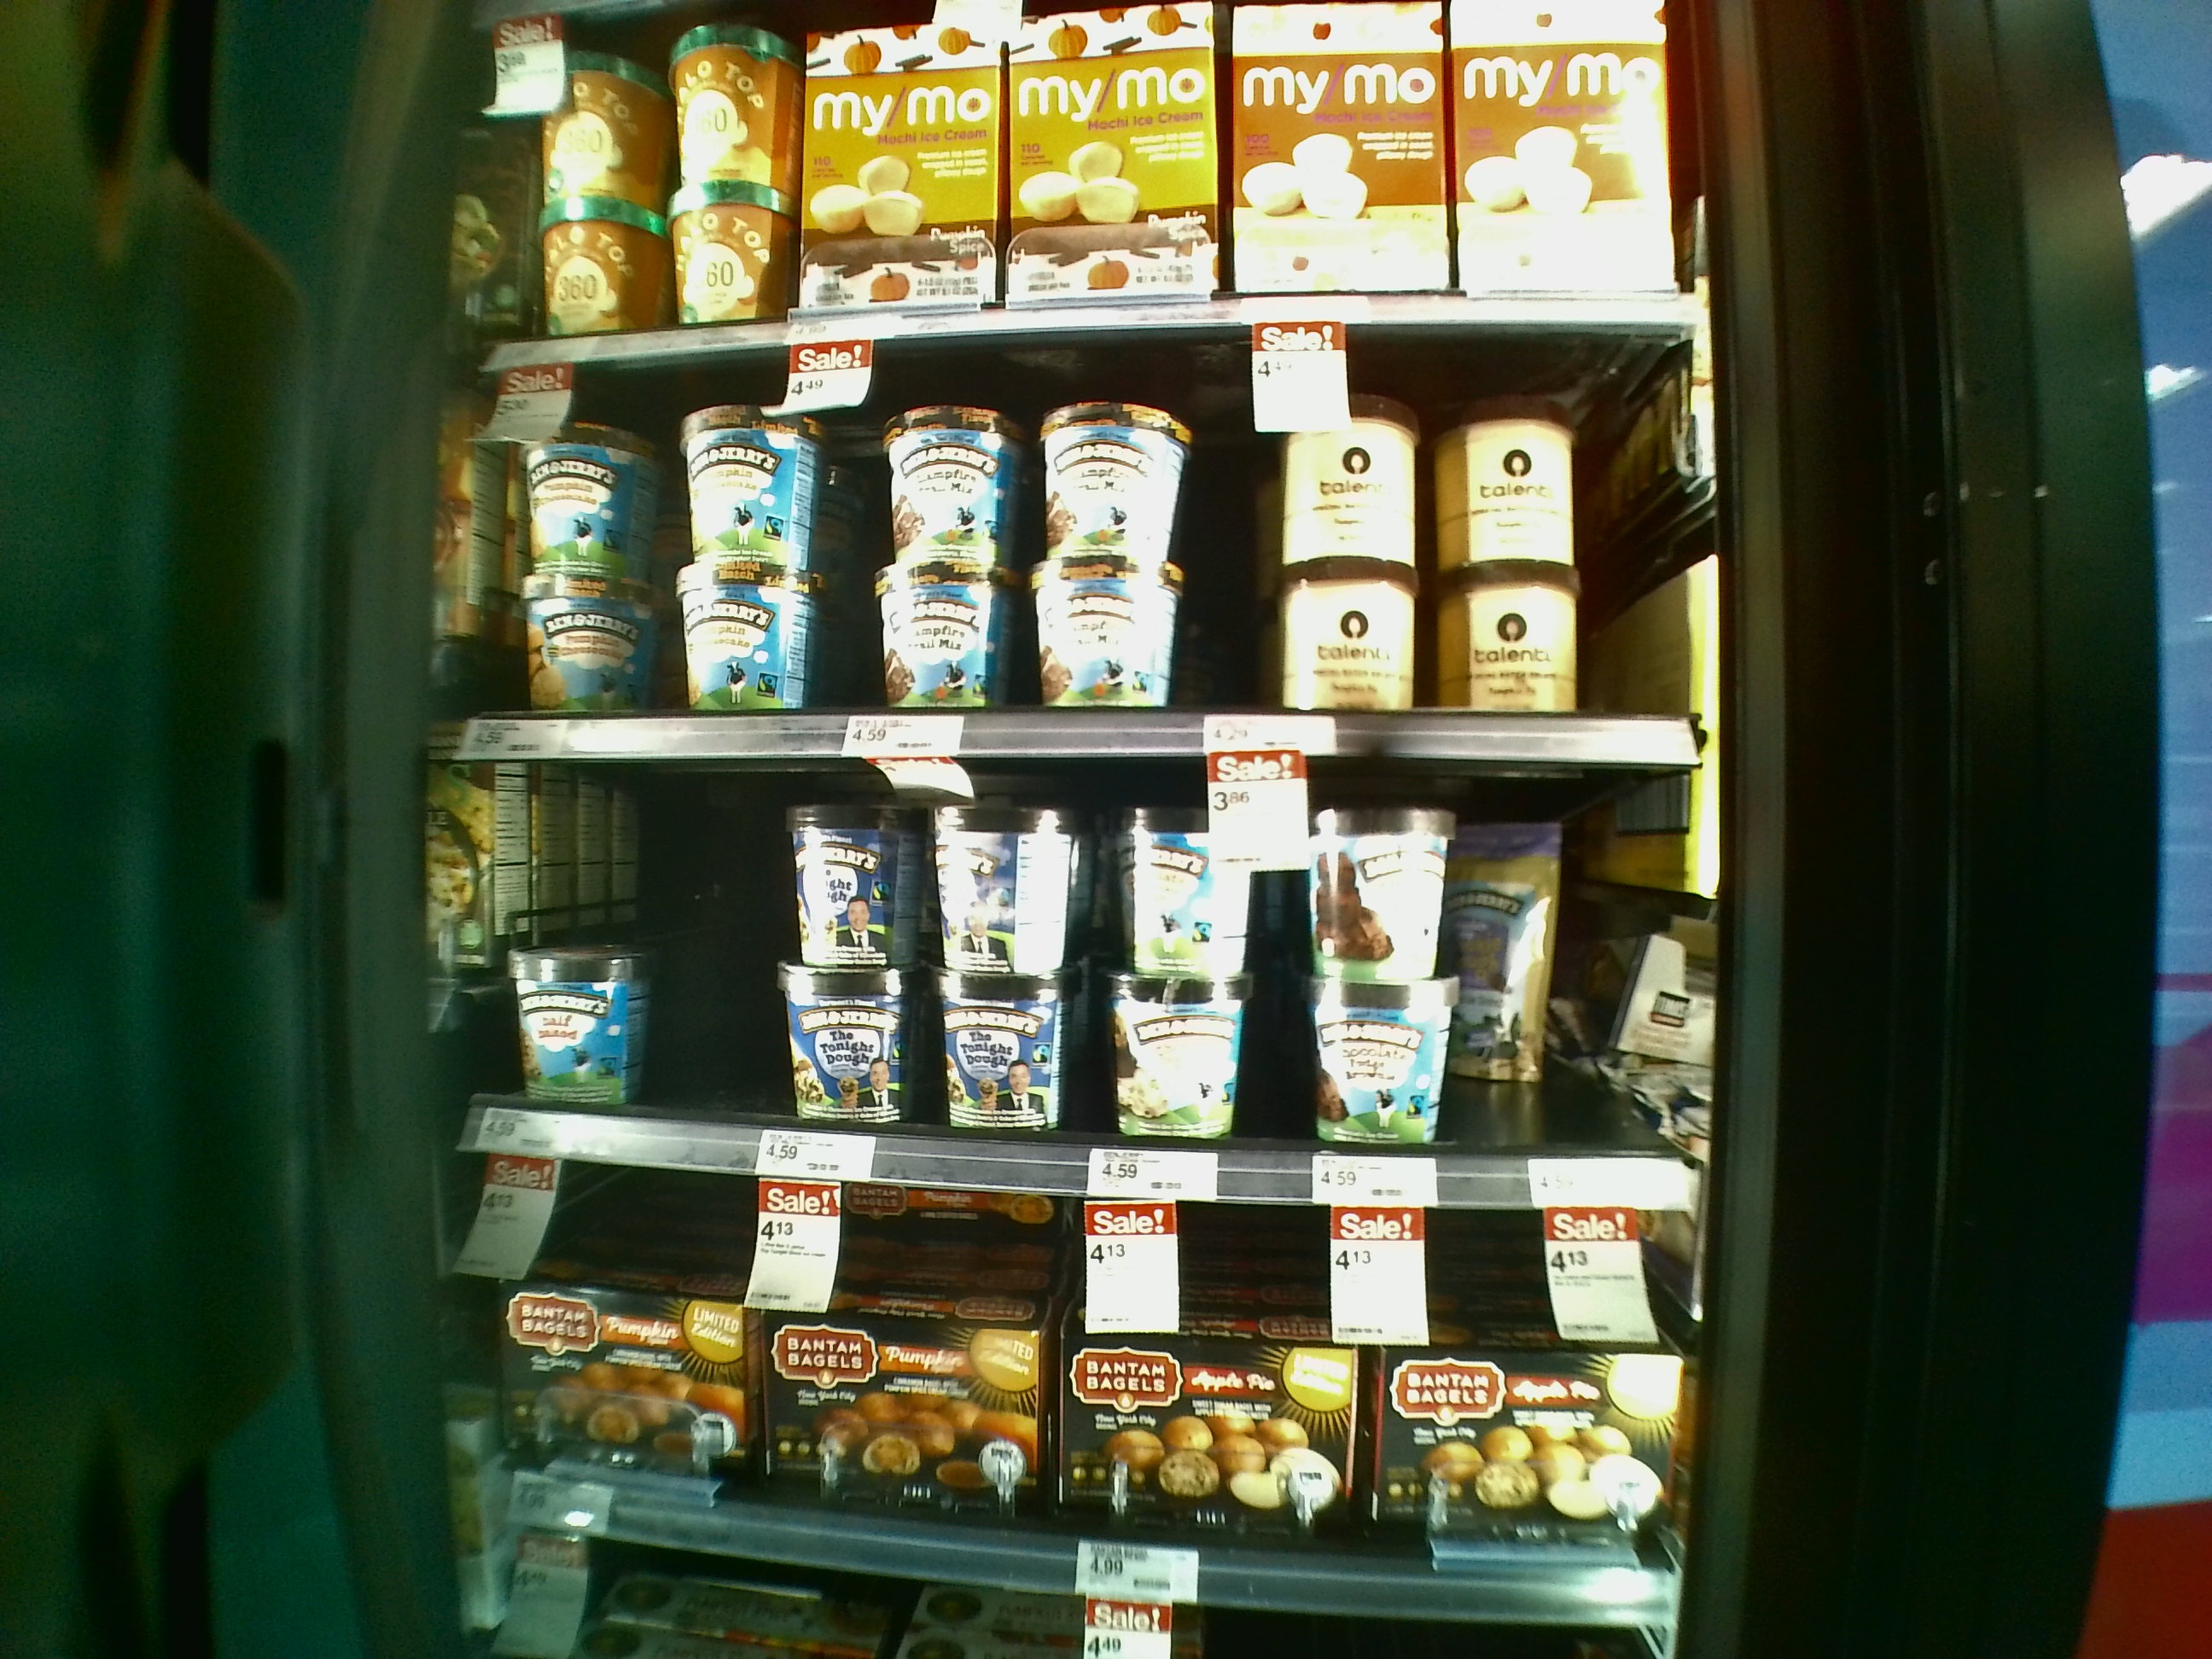shelf: (441, 748, 1702, 1209), (446, 1157, 1672, 1629), (455, 357, 1724, 763)
